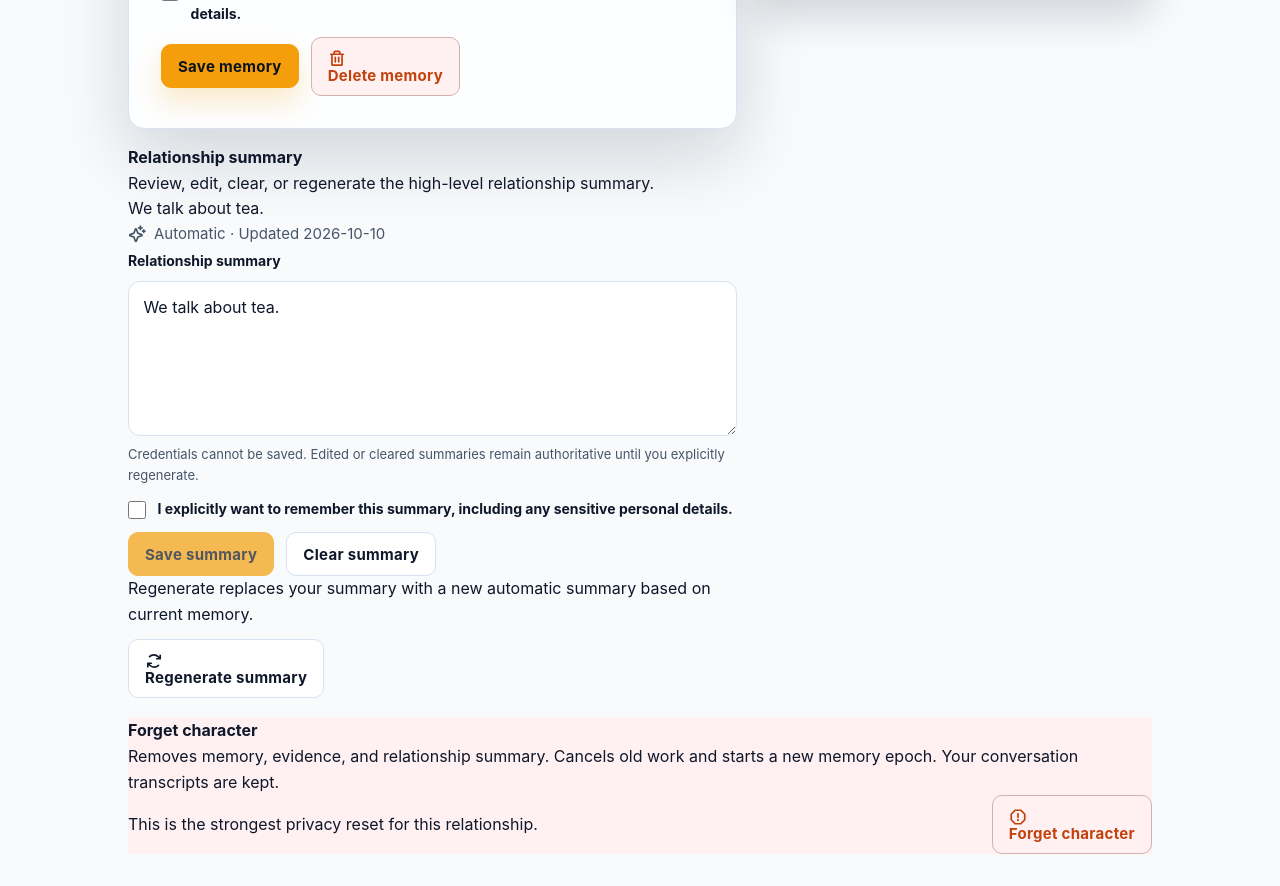
Test: forget section explains its consequences and opens a confirmation dialog
(page scrolled)
Expected: the element "Forget character" shows "Removes memory, evidence, and relationship summary. Cancels old work and starts a new memory epoch. Your conversation transcripts are kept.", [128,746,1078,792]
Click the button "Forget character" at (1072, 825), box [992,795,1152,854]
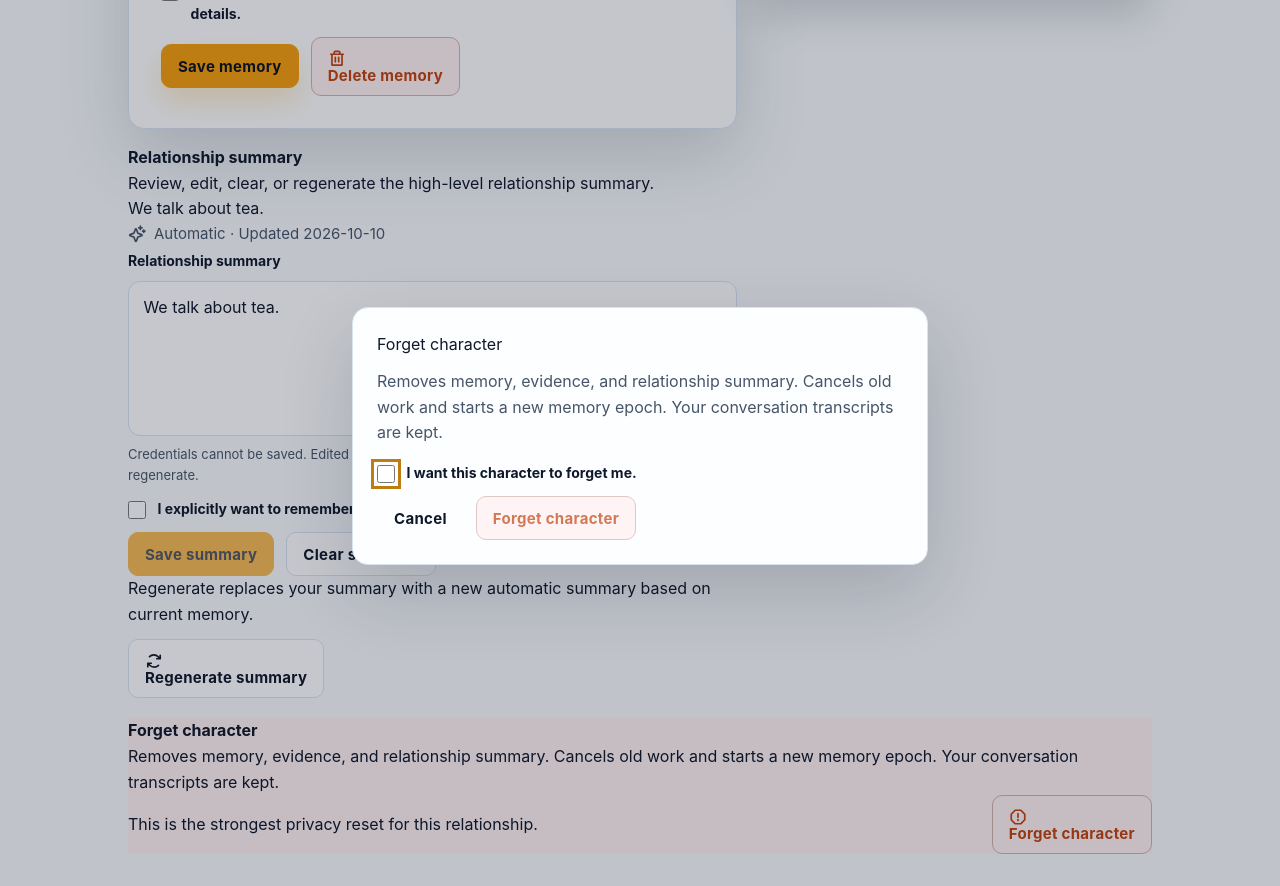
Expected: the button "Forget character" is disabled, [476,496,636,540]
Click the checkbox at (386, 474), box [377,465,395,483]
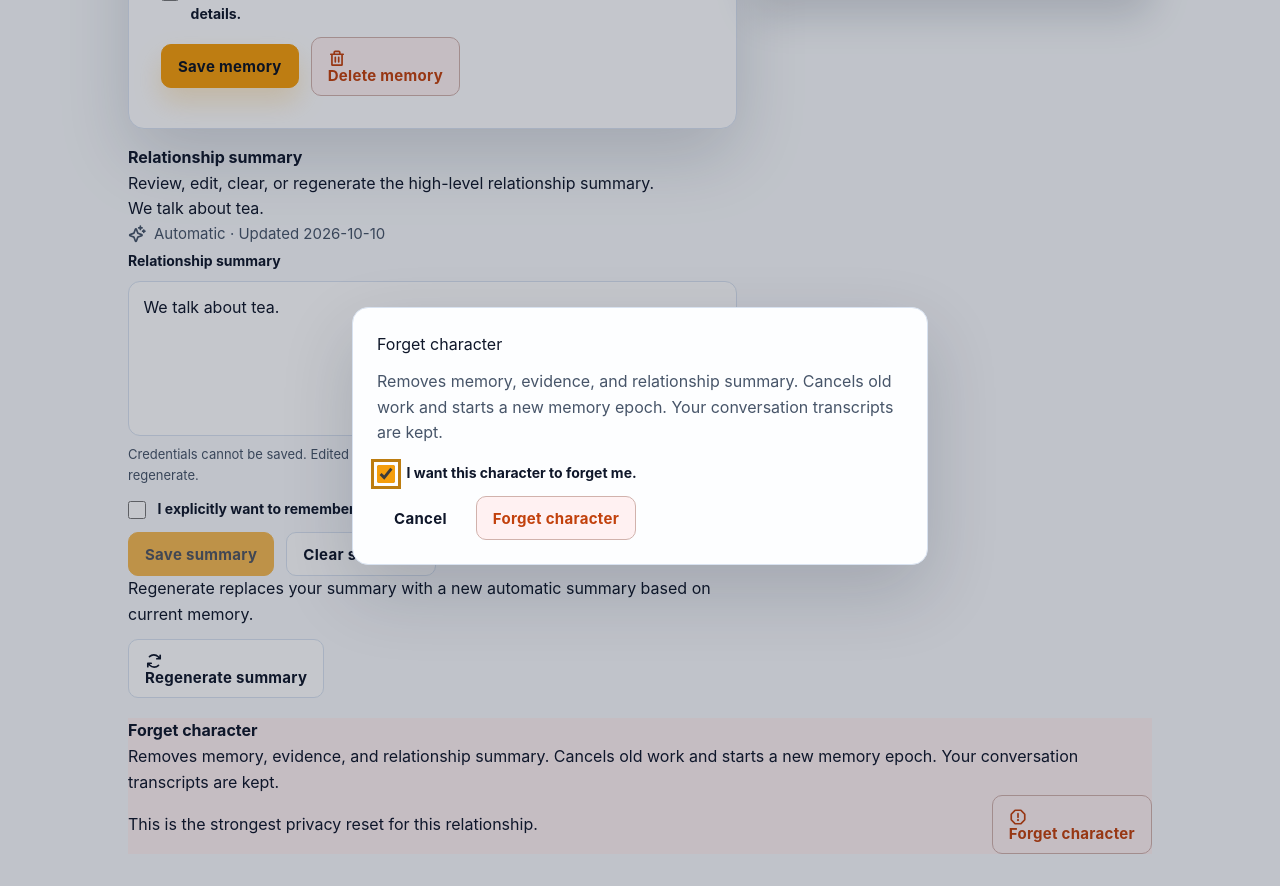
Expected: the button "Forget character" is enabled, [476,496,636,540]
